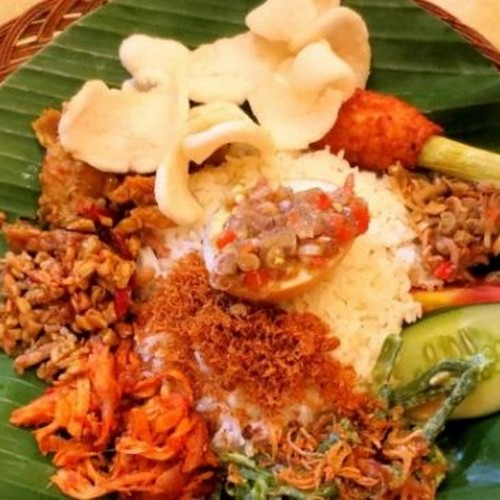nasi jinggo: (17, 56, 445, 492)
